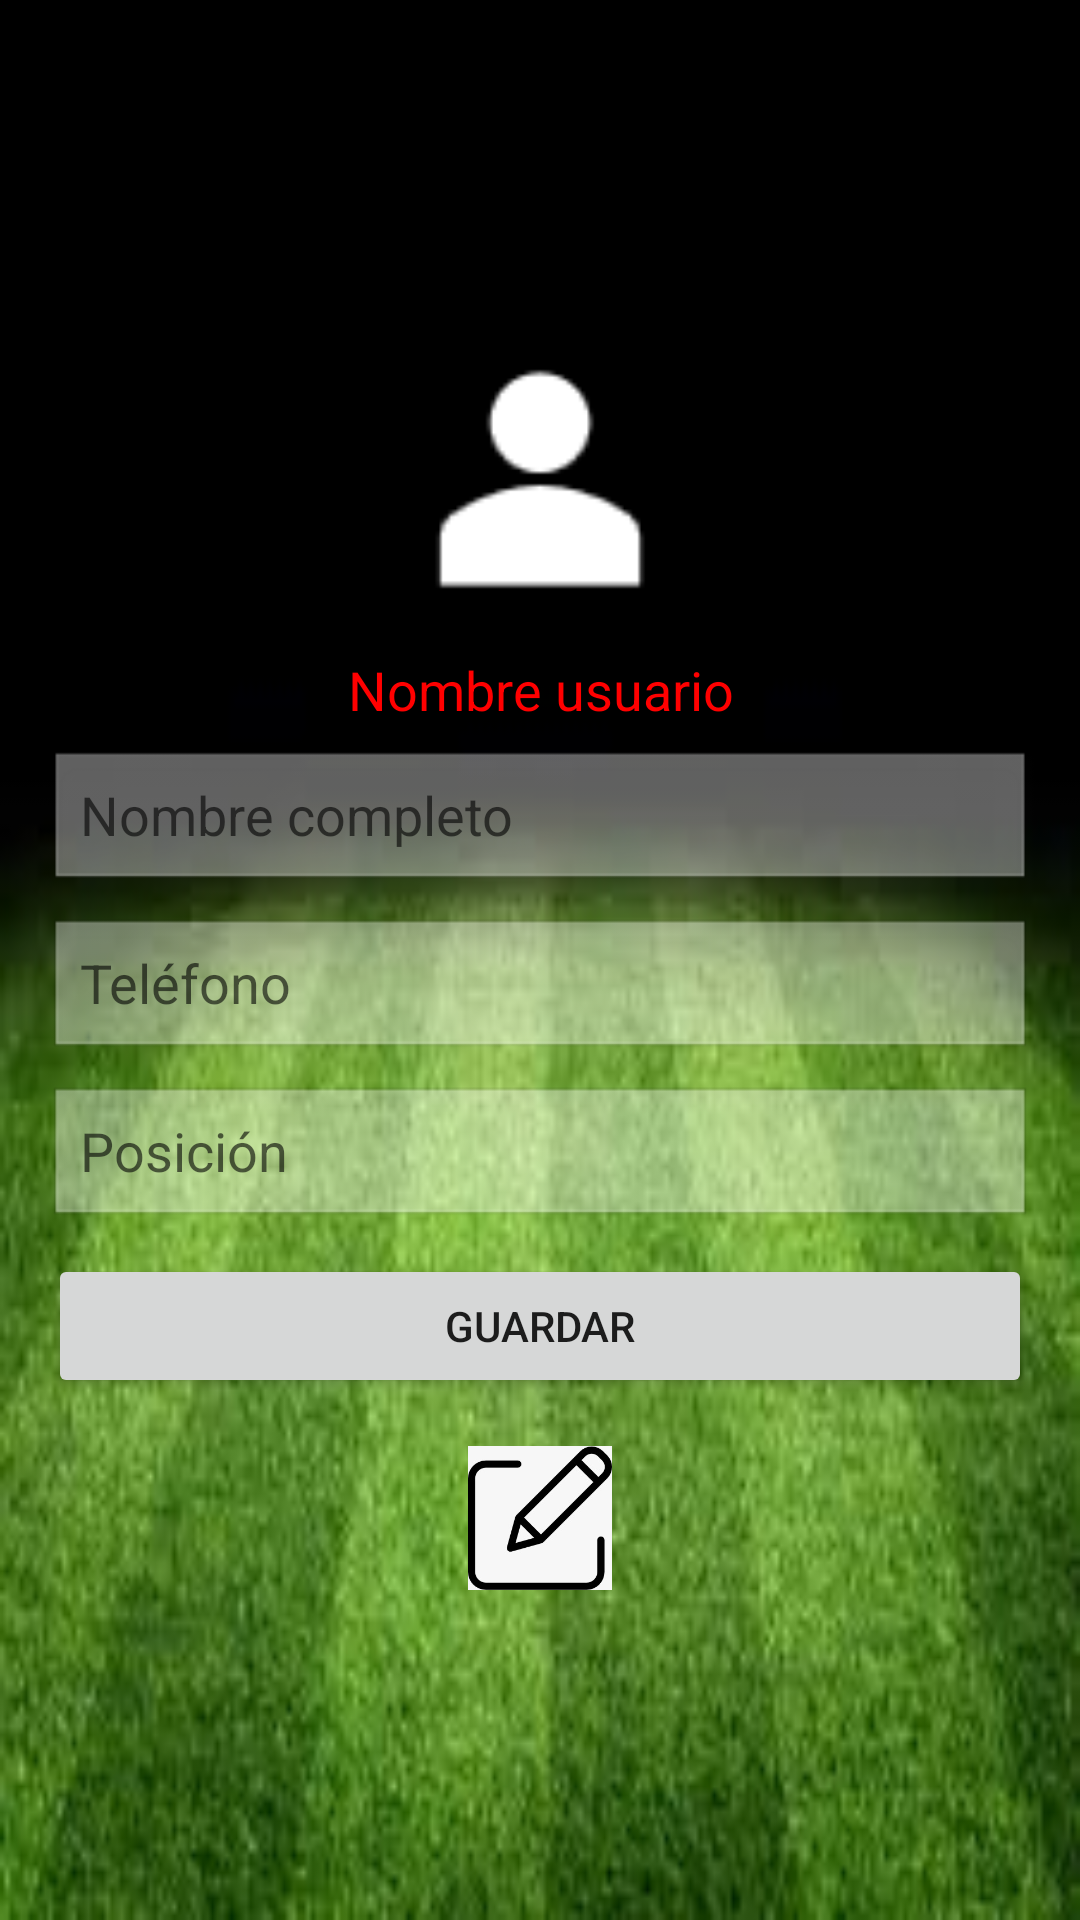

Icons on this 1080px×1920px Android screen, each with the point to tap as (x=x, y=y):
Edit Icon: (x=540, y=1518)
Profile Picture: (x=540, y=479)
